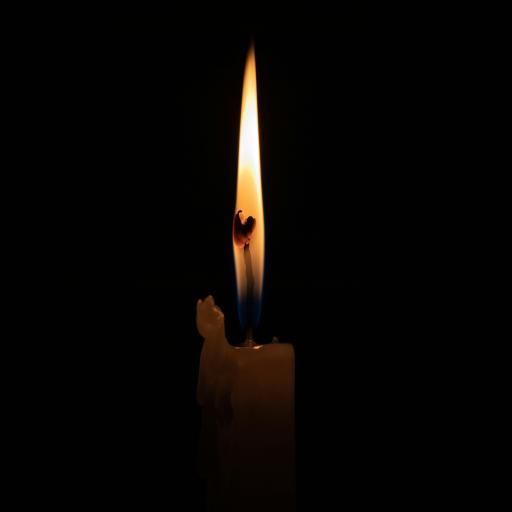candlelight: (188, 11, 331, 412)
